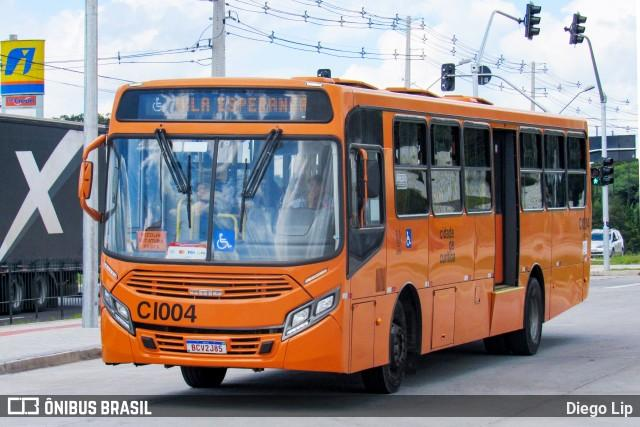VILA ESPERANCA: (170, 94, 310, 117)
